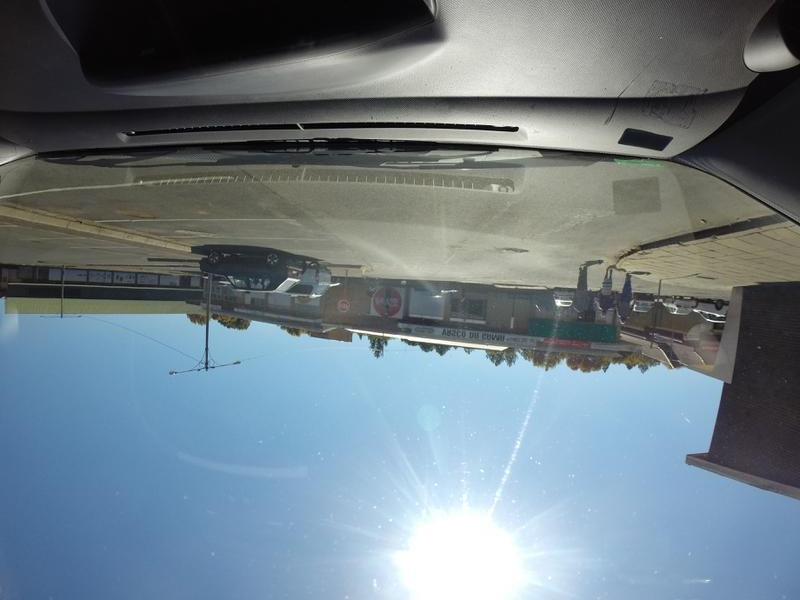pothole: (479, 240, 536, 259), (120, 202, 154, 224)
